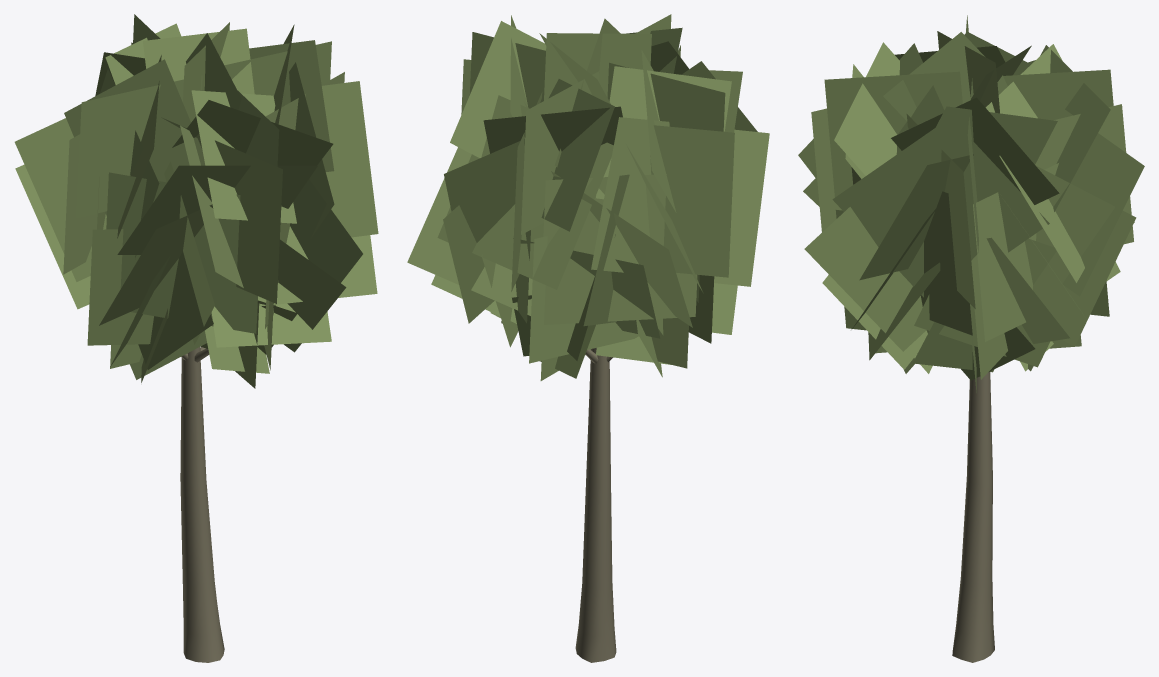
The model's file is ash.glb.
3 views of the same model, side by side, from view 1: azimuth 30°, elevation 25°; view 2: azimuth 150°, elevation 25°; view 3: azimuth 270°, elevation 25° (orthographic).
Parts seen in each view (by area): view 1: Foliage, ash; view 2: Foliage, ash; view 3: Foliage, ash.
Part boxes in pixels (x1=…): Foliage: x1=14, y1=14, x2=378, y2=388; ash: x1=180, y1=347, x2=224, y2=662; Foliage: x1=407, y1=14, x2=769, y2=380; ash: x1=575, y1=348, x2=616, y2=662; Foliage: x1=798, y1=15, x2=1144, y2=392; ash: x1=952, y1=372, x2=994, y2=662.
Size of the model in its own units: 4.84 by 10.64 by 5.4.
